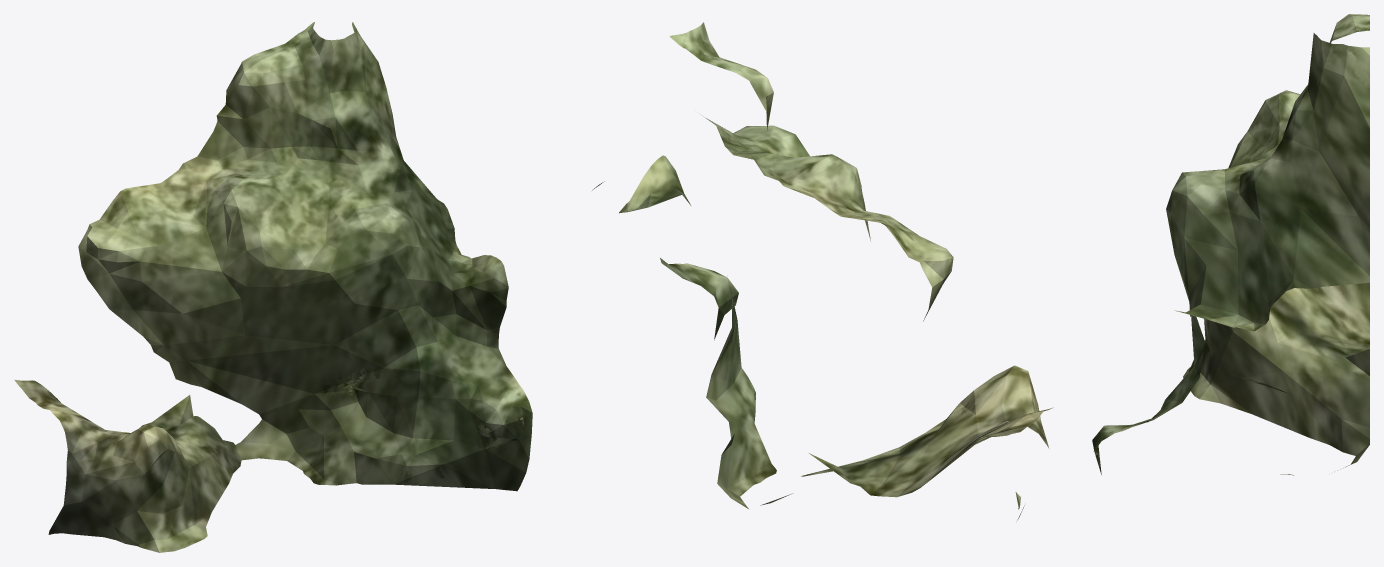
3 views of the same model, side by side, from view 1: azimuth 30°, elevation 25°; view 2: azimuth 150°, elevation 25°; view 3: azimuth 270°, elevation 25° (orthographic). The views are drawn at different scales.
Bounding box in the file's own units: 2.95 × 2.95 × 1.58.
Materials: 3 (3 with a texture image).
